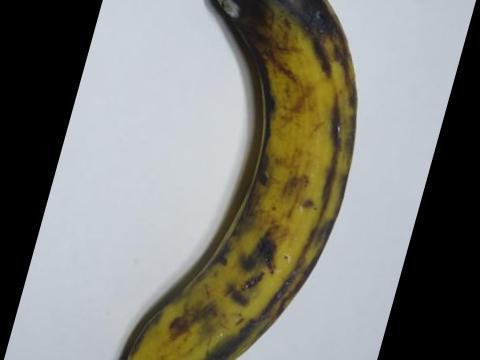overripe: (108, 0, 362, 359)
rotten: (204, 0, 349, 68)
